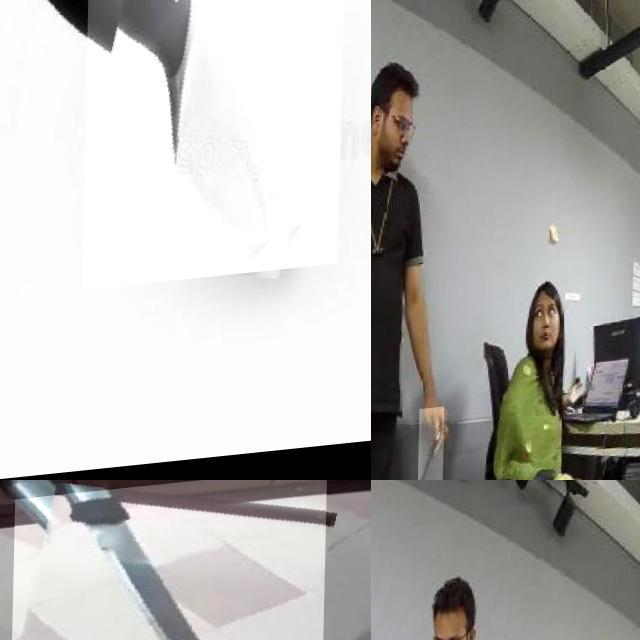-: (83, 0, 346, 293), (11, 480, 328, 640), (420, 413, 446, 480)
